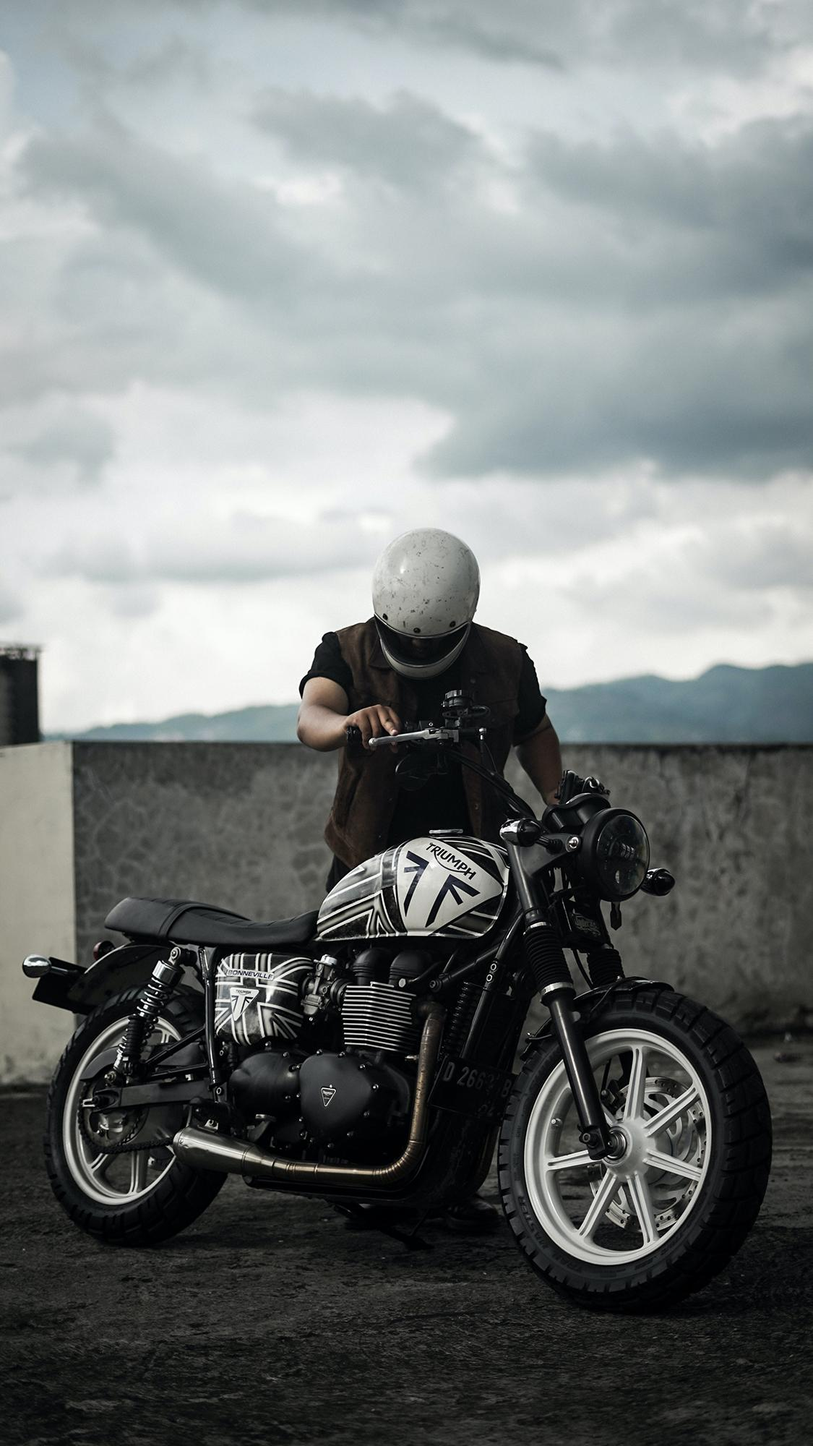helmet: (371, 526, 481, 681)
